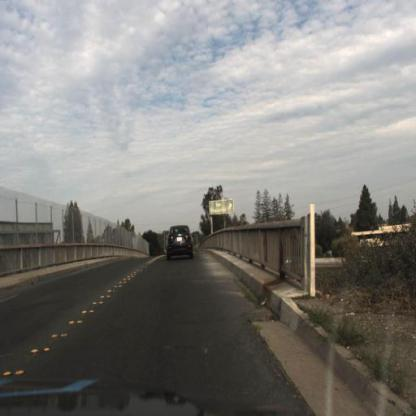car: (164, 218, 199, 265)
